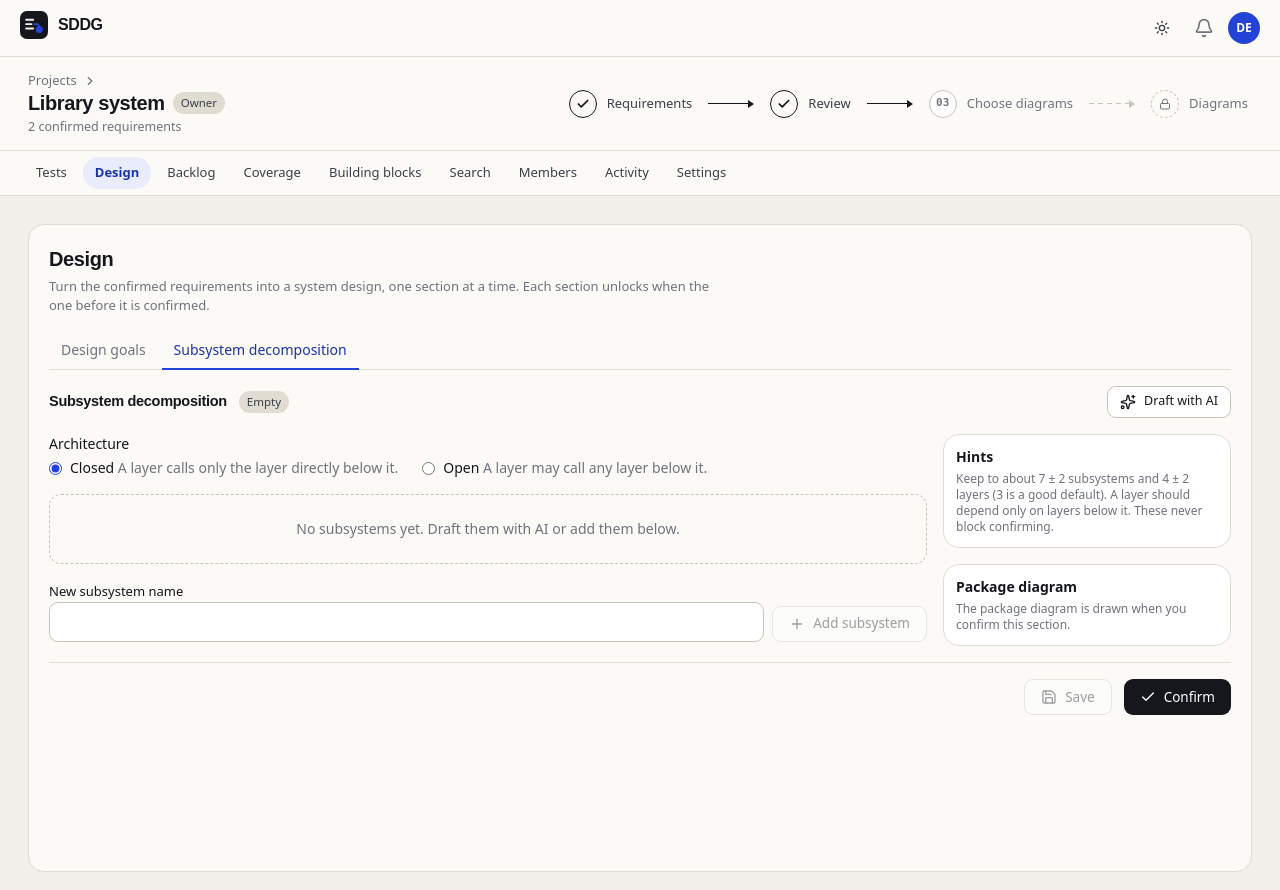
Scenario: Subsystem decomposition › drafts with AI: subsystems under their layers, with services, classes and cited requirements
Click the button "Draft with AI" at {"x": 1169, "y": 402}, box [1107,386,1231,418]
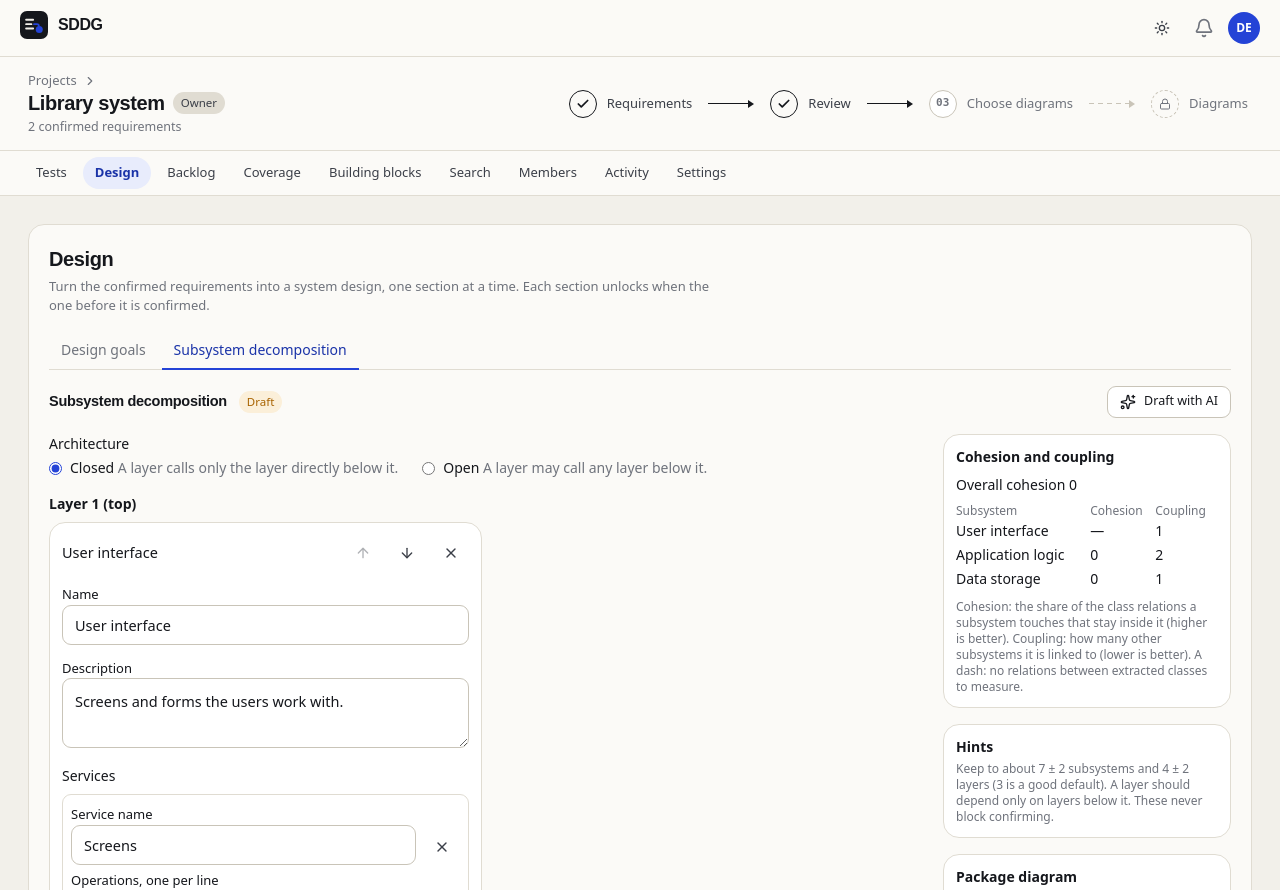
expect the text "Draft" is shown: met, box [239,391,282,413]
expect the heading "Layer 1 (top)" is shown: met, box [49,494,136,513]
